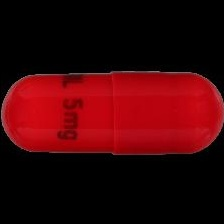61919-157: (0, 0, 224, 224)
